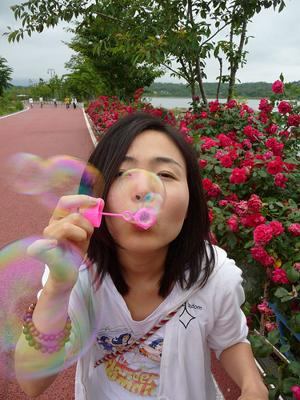person: (10, 109, 268, 400)
